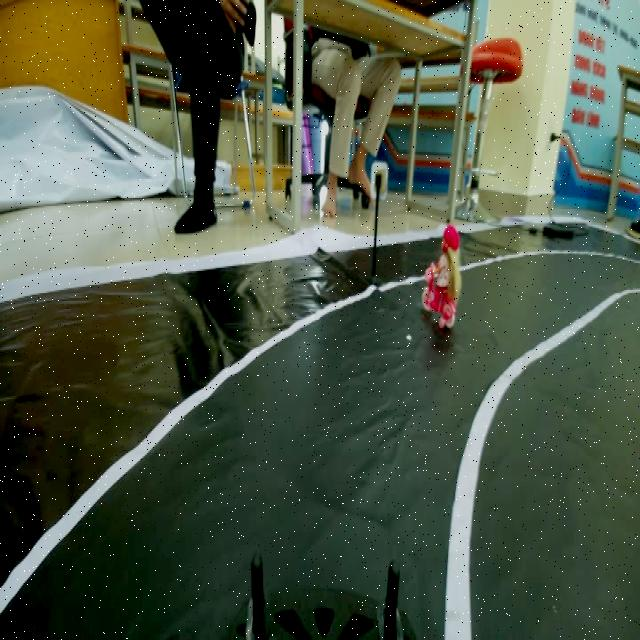pedestrian: (416, 224, 467, 338)
